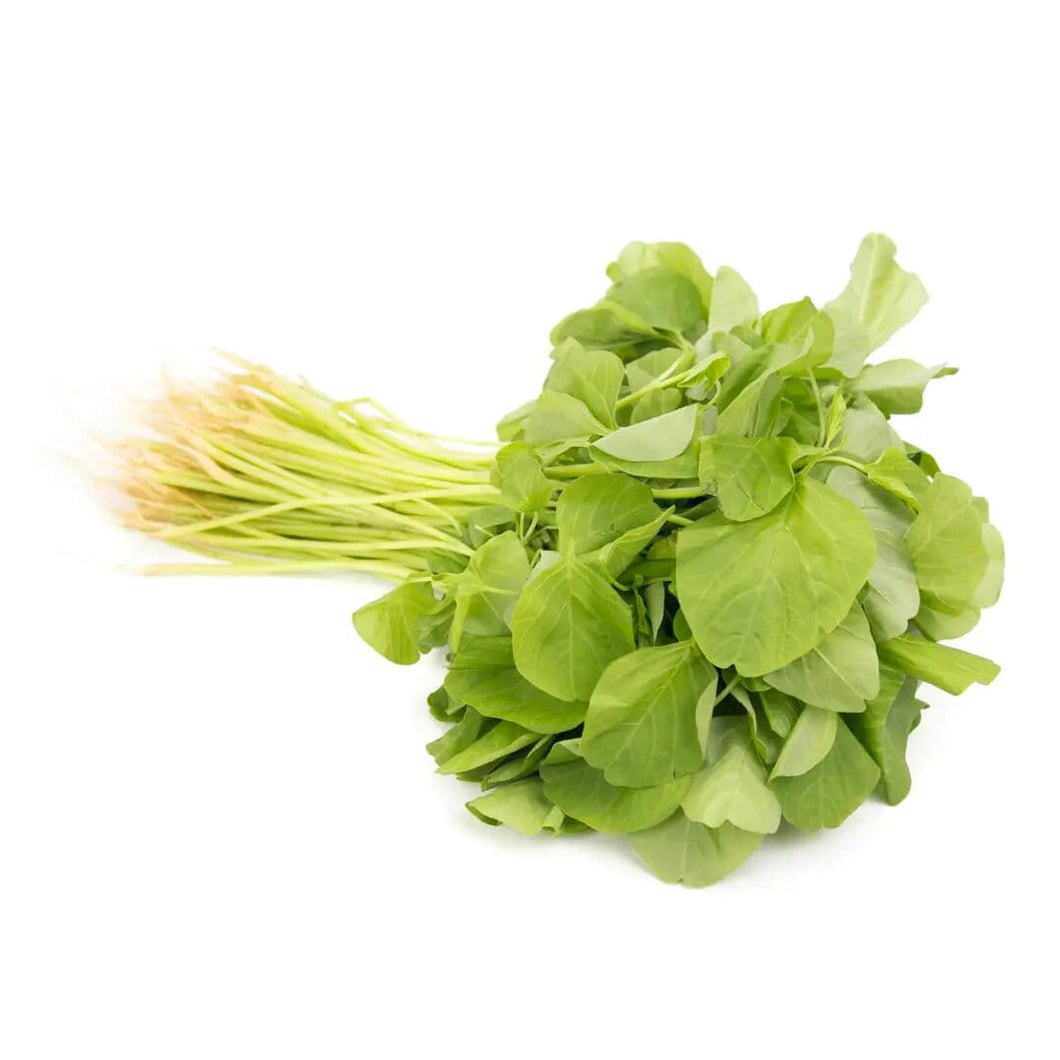Bayam: (76, 122, 1031, 954)
